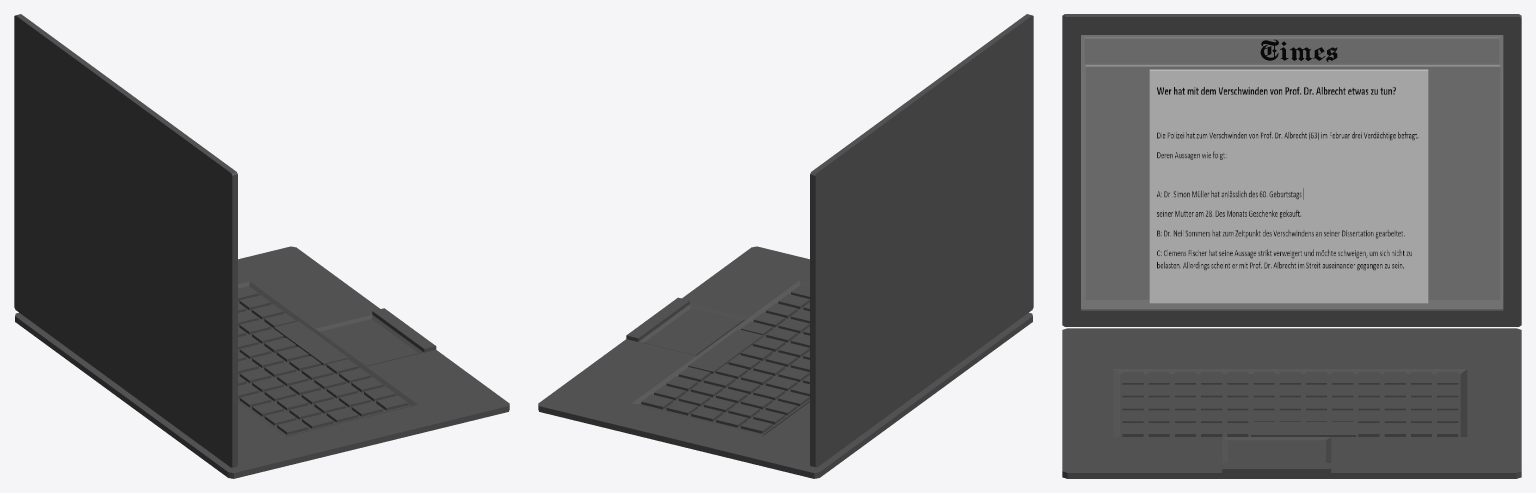
Rendered from artikel_laptop.glb.
The picture shows the model from 3 angles, left to right: view 1: azimuth 30°, elevation 25°; view 2: azimuth 150°, elevation 25°; view 3: azimuth 270°, elevation 25°; orthographic projection. The views are drawn at different scales.
Parts seen in each view (by area): view 1: Cube.001, Cube; view 2: Cube.001, Cube; view 3: Cube, Plane.002, Cube.001, Plane.001, Plane, Text.
Boxes of the visible parts, left/top/right/bottom form: Cube.001: left=14, top=14, right=237, bottom=467; Cube: left=15, top=246, right=509, bottom=478; Cube.001: left=810, top=14, right=1033, bottom=467; Cube: left=538, top=246, right=1032, bottom=478; Cube: left=1062, top=328, right=1521, bottom=478; Plane.002: left=1149, top=69, right=1428, bottom=303; Cube.001: left=1062, top=14, right=1521, bottom=326; Plane.001: left=1085, top=65, right=1500, bottom=299; Plane: left=1084, top=37, right=1499, bottom=63; Text: left=1260, top=39, right=1337, bottom=61.
Size of the model in its own units: 0.7838 by 0.8122 by 1.05.
Materials: 5 (1 with a texture image).
